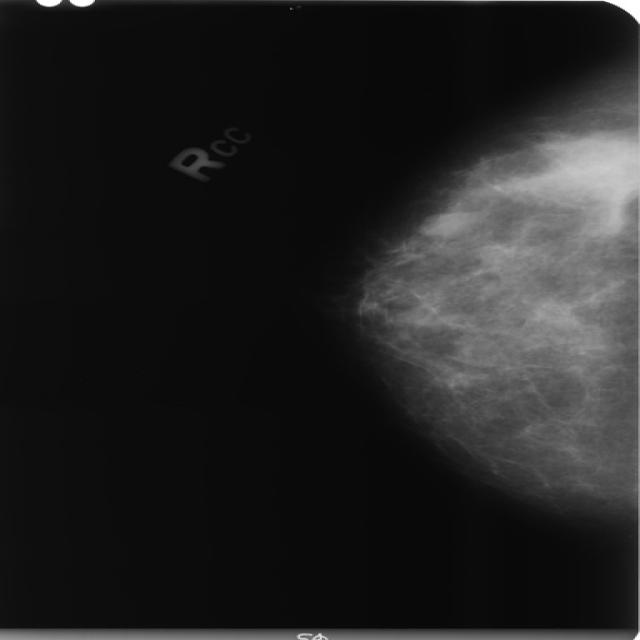tumour: (415, 211, 468, 236)
